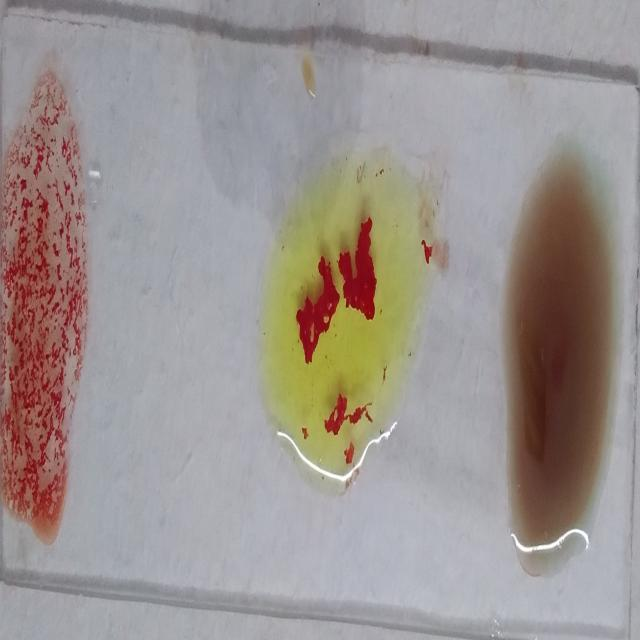B: (261, 141, 438, 504)
D: (0, 71, 82, 548)
